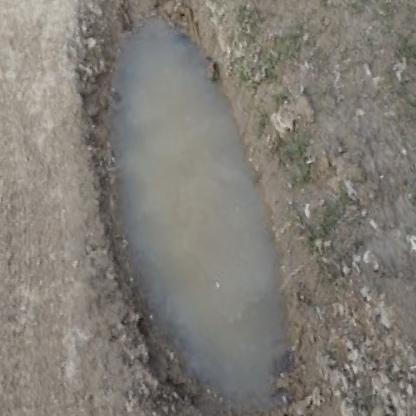pothole: (25, 0, 345, 416)
